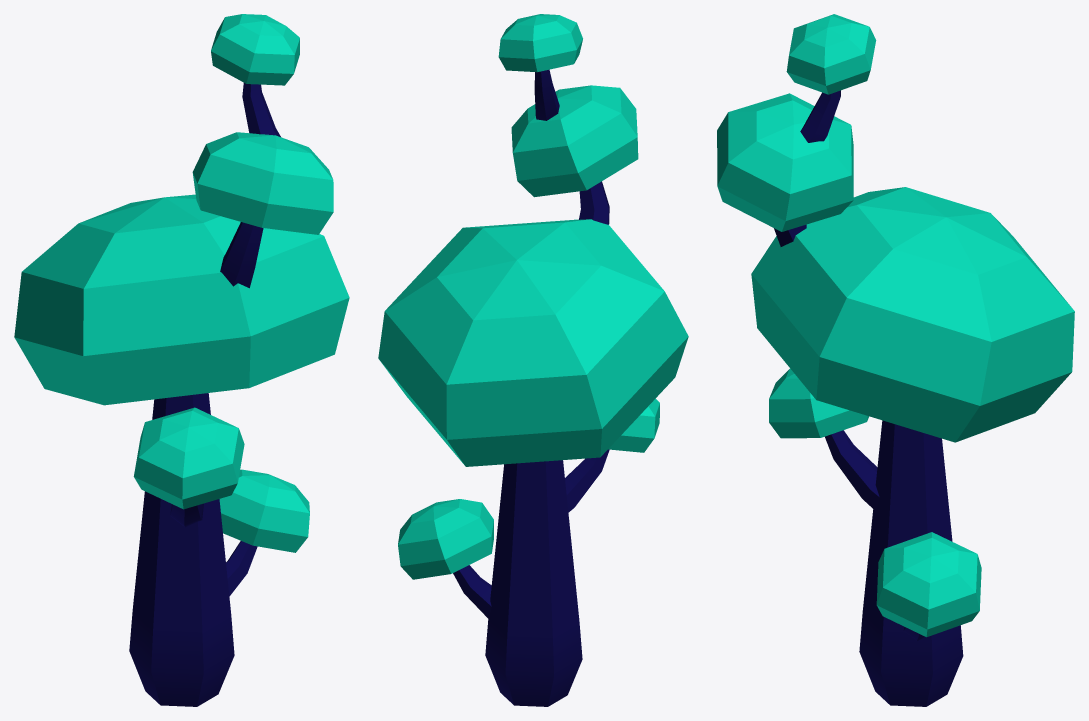
The model's file is Mushroom_2.fbx.
3 views of the same model, side by side, from view 1: azimuth 30°, elevation 25°; view 2: azimuth 150°, elevation 25°; view 3: azimuth 270°, elevation 25° (orthographic). The views are drawn at different scales.
Visible parts, largest first — view 1: glow, stem; view 2: glow, stem; view 3: glow, stem.
Part boxes in pixels (x1=…): glow: x1=14, y1=14, x2=349, y2=552; stem: x1=129, y1=83, x2=280, y2=706; glow: x1=378, y1=14, x2=688, y2=579; stem: x1=453, y1=69, x2=609, y2=706; glow: x1=717, y1=14, x2=1074, y2=637; stem: x1=774, y1=90, x2=963, y2=706.
Bounding box in the file's own units: 11.82 × 29.14 × 13.79.
